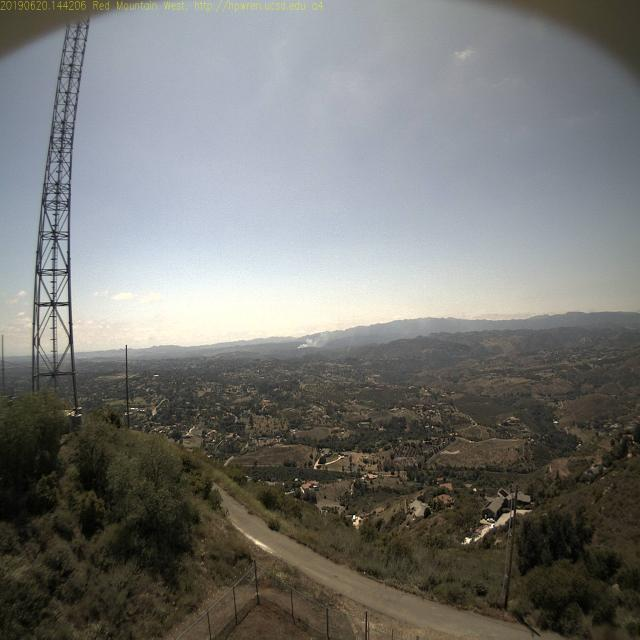smoke: (292, 328, 322, 360)
